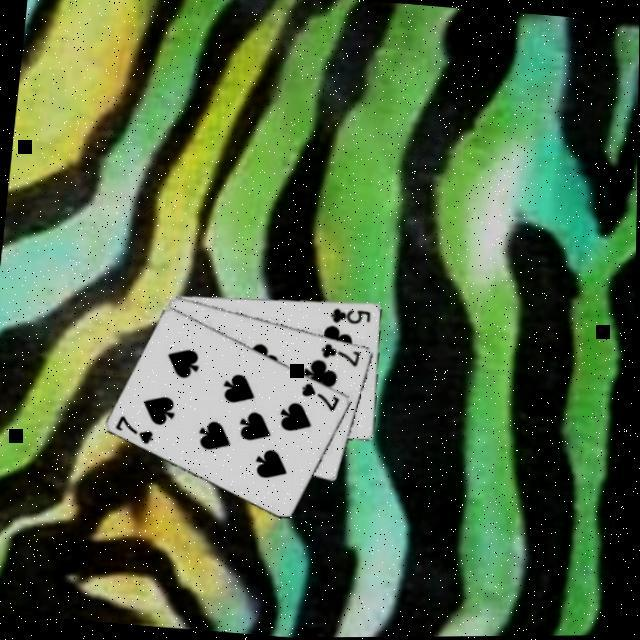5C: (327, 304, 375, 328)
7C: (318, 339, 364, 369)
7S: (297, 378, 344, 414), (112, 410, 158, 446)
